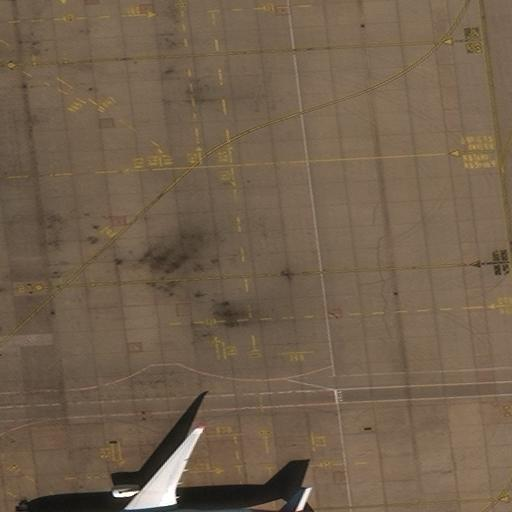Large Civil Transport: (48, 426, 305, 511)
